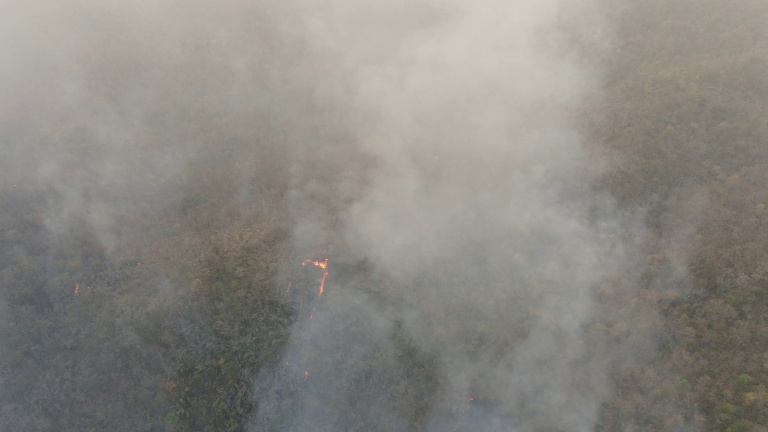fire: (283, 251, 328, 318), (69, 279, 86, 298), (297, 370, 310, 382)
smoke: (251, 1, 677, 431), (1, 5, 348, 176), (1, 178, 196, 432)
